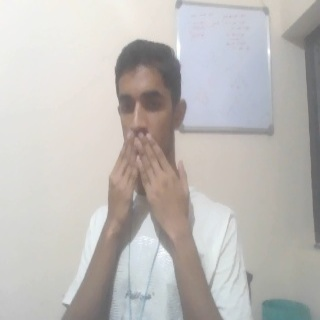Thank You: (99, 132, 199, 251)
